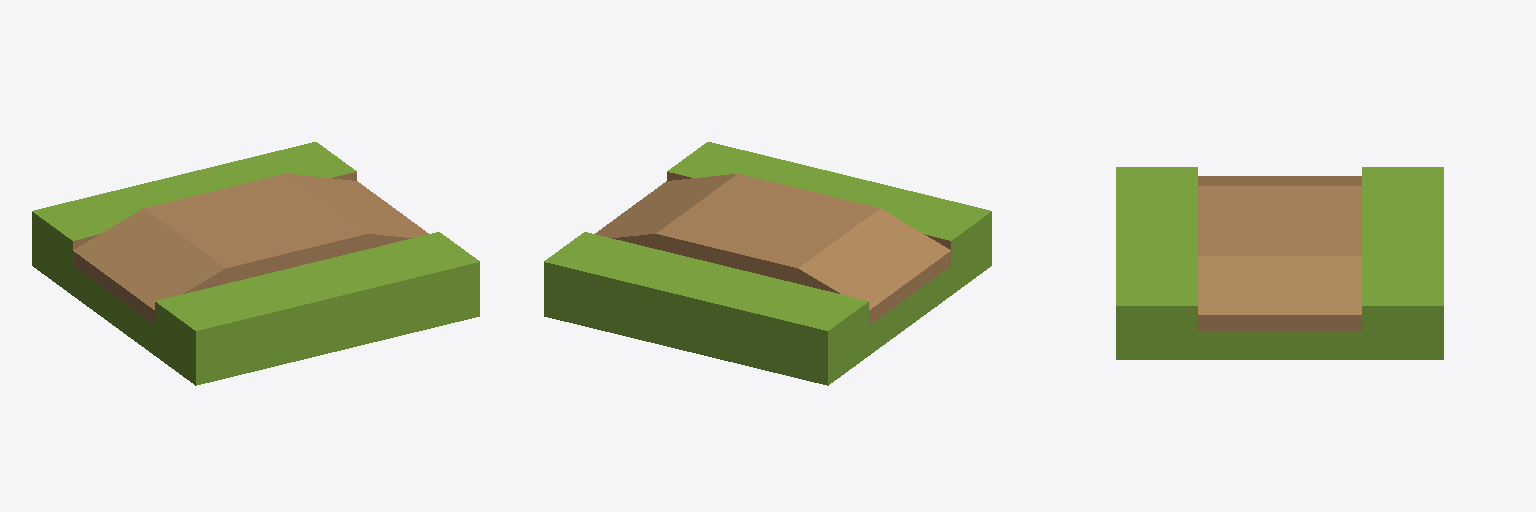
Rendered from tile224.obj.
3 renders of one model, left to right at view 1: azimuth 30°, elevation 25°; view 2: azimuth 150°, elevation 25°; view 3: azimuth 270°, elevation 25°, orthographic.
Parts seen in each view (by area): view 1: tile224; view 2: tile224; view 3: tile224.
Boxes of the visible parts, x1,y1,x2,y2 form: tile224: [32, 142, 479, 385]; tile224: [544, 142, 991, 385]; tile224: [1116, 167, 1443, 359].
Size of the model in its own units: 1 by 0.235 by 1.